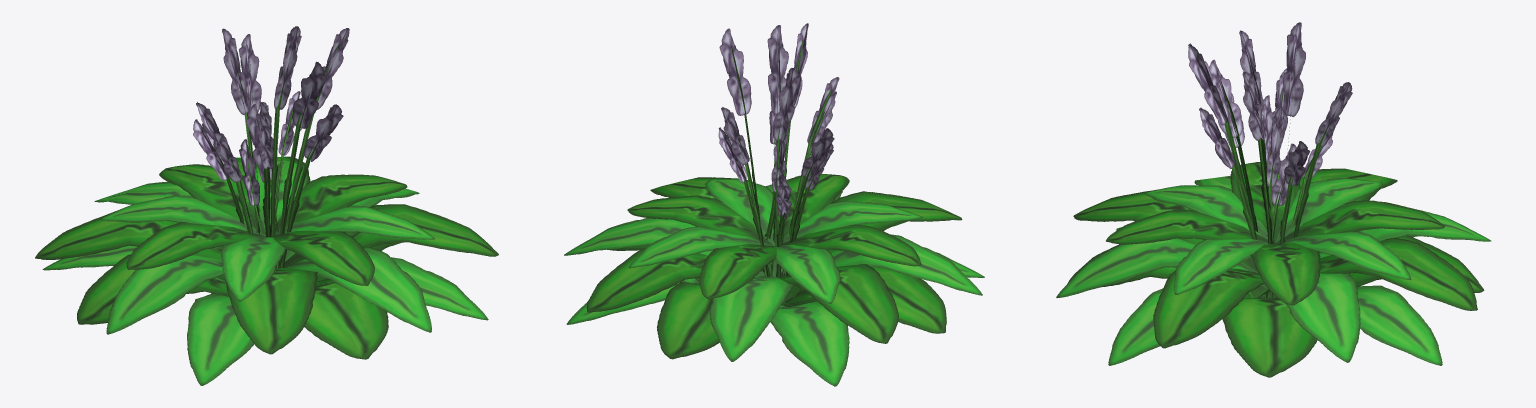
Rendered from e_asset_courtyard_plant_1.fbx.
3 views of the same model, side by side, from view 1: azimuth 30°, elevation 25°; view 2: azimuth 150°, elevation 25°; view 3: azimuth 270°, elevation 25° (orthographic). The views are drawn at different scales.
Parts seen in each view (by area): view 1: polySurface499; view 2: polySurface499; view 3: polySurface499.
Boxes of the visible parts, x1=… form: polySurface499: x1=35, y1=26, x2=498, y2=385; polySurface499: x1=564, y1=23, x2=984, y2=386; polySurface499: x1=1056, y1=22, x2=1491, y2=377.
Bounding box in the file's own units: 0.9573 × 0.6764 × 0.9573.
